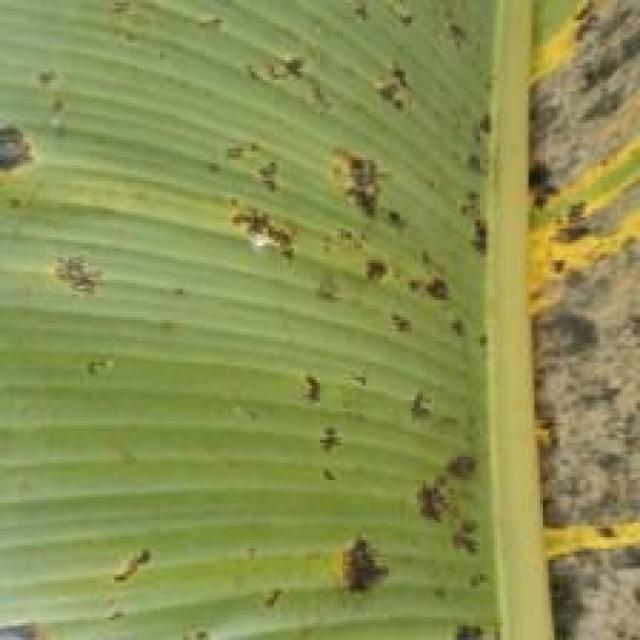Downey_mildrew: (174, 0, 640, 640), (0, 0, 150, 358), (88, 511, 162, 629), (0, 597, 66, 640)
